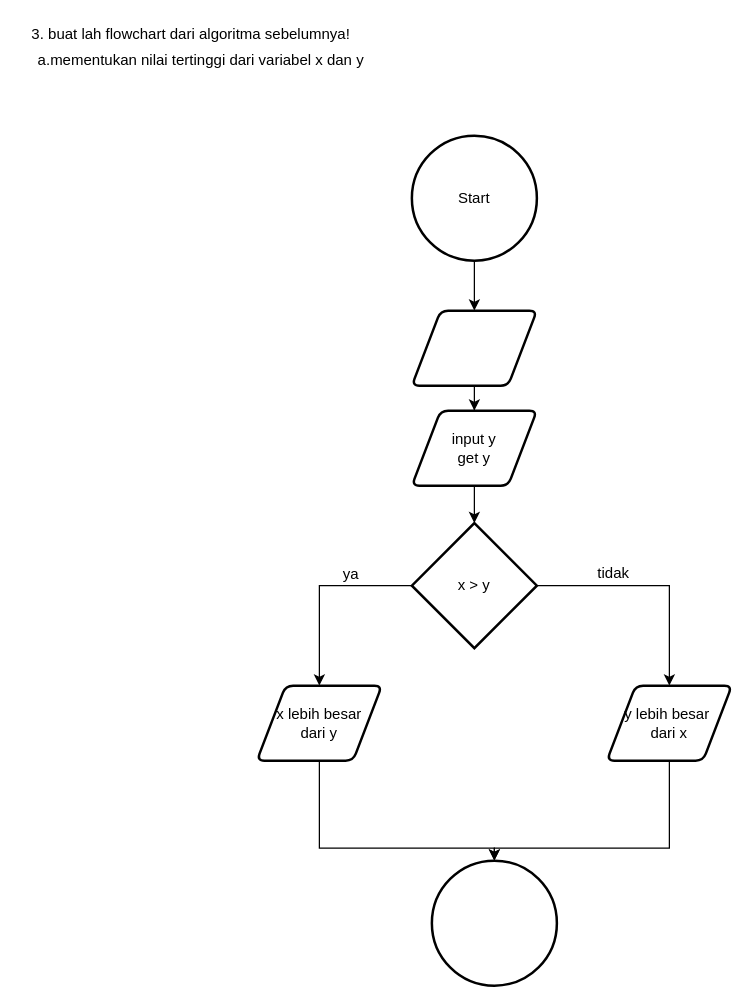
Some shapes in this 754 by 1008 pixel diagram are drawn without their labels. Each missing label, with the box of its shape:
end: (430, 859, 558, 986)
input x get x: (410, 309, 538, 386)
